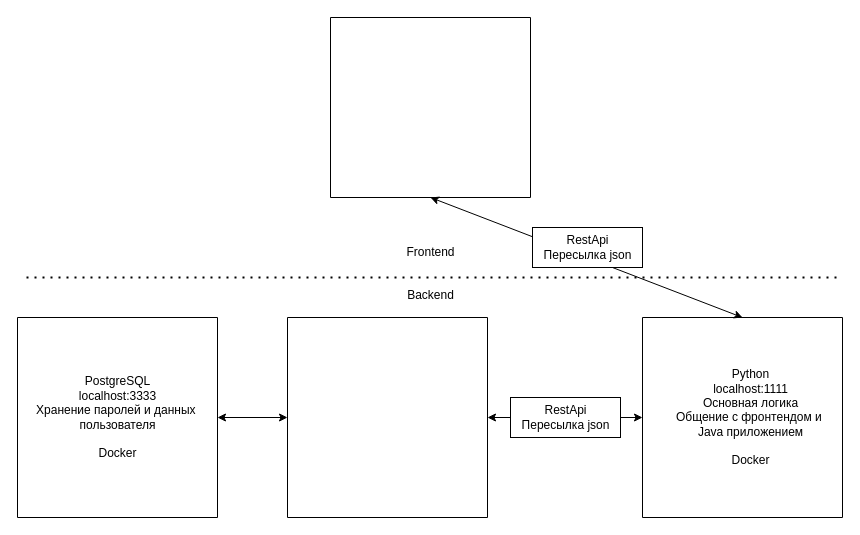
The diagram is 860 pixels wide and 535 high, and some of its shapes have lost their labels. Each missing label, with the box of its shape:
Java localhost:2222 Работа с базой PostgreSql Docker: (286, 316, 488, 518)
React js https://512server.ru:1000/ Клиент взаимодействия с пользователем Docker: (330, 16, 530, 198)
